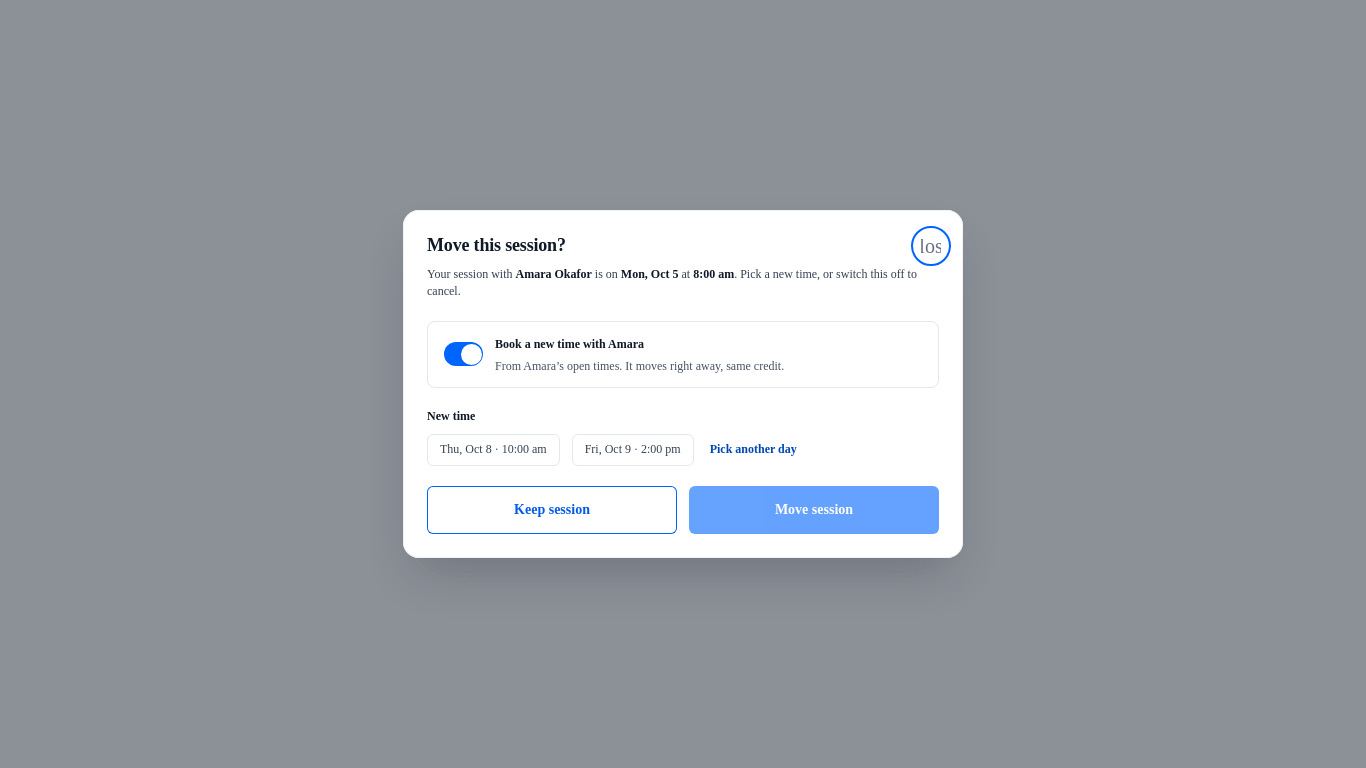
Scenario: switched off › switching back on starts again with no time picked
Step 1. Click the radio button labelled "Thu, Oct 8 · 10:00 am" → [493, 450], box [427, 434, 560, 466]
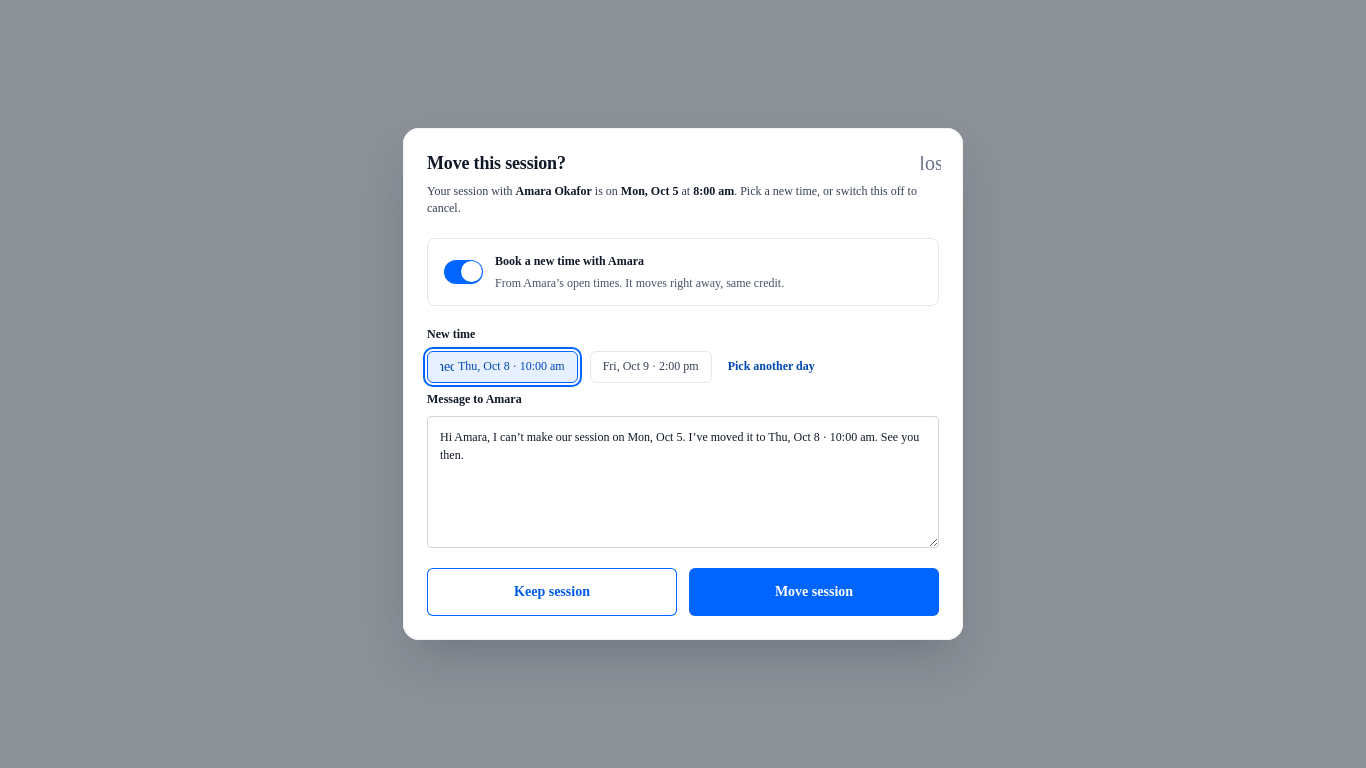
Step 2. Click the switch named "Book a new time with Amara" → [464, 272], box [444, 260, 483, 284]
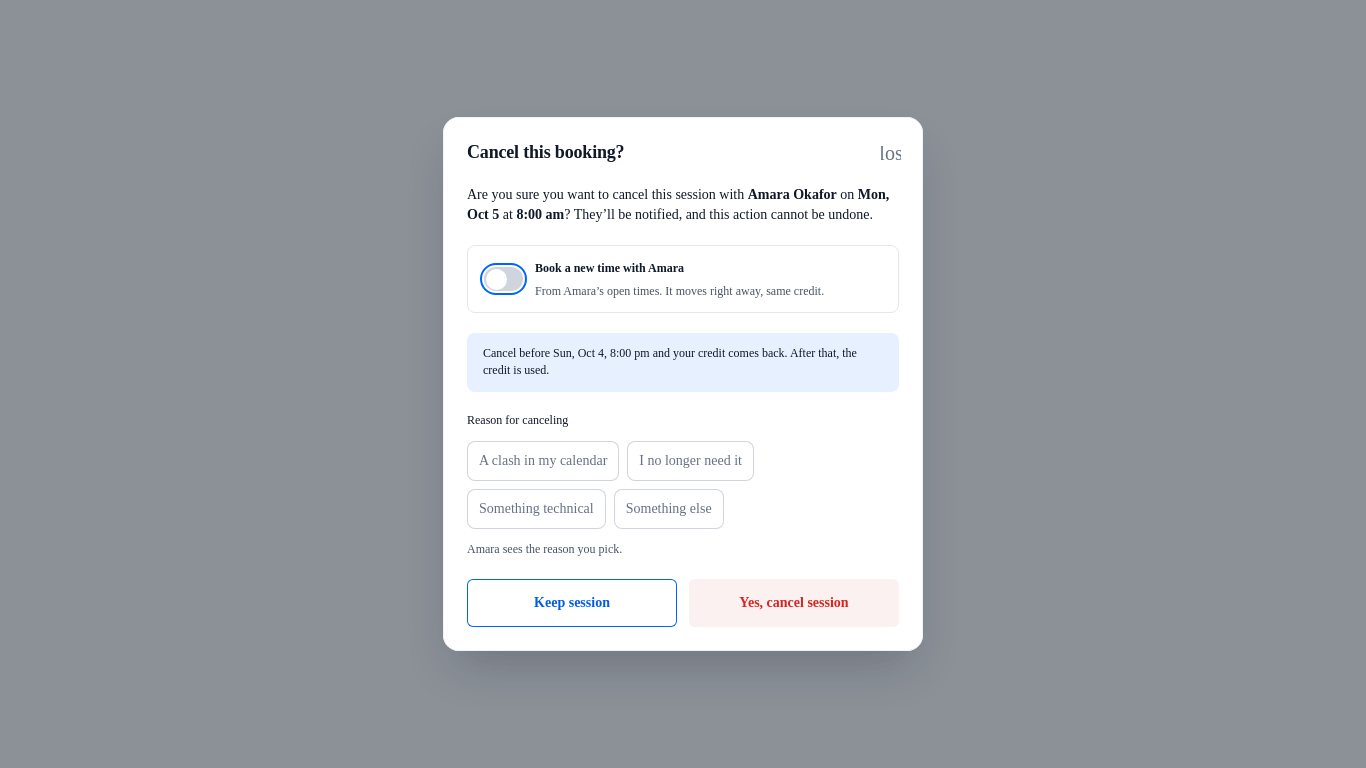
Step 3. Click the switch named "Book a new time with Amara" → [504, 279], box [484, 267, 523, 291]
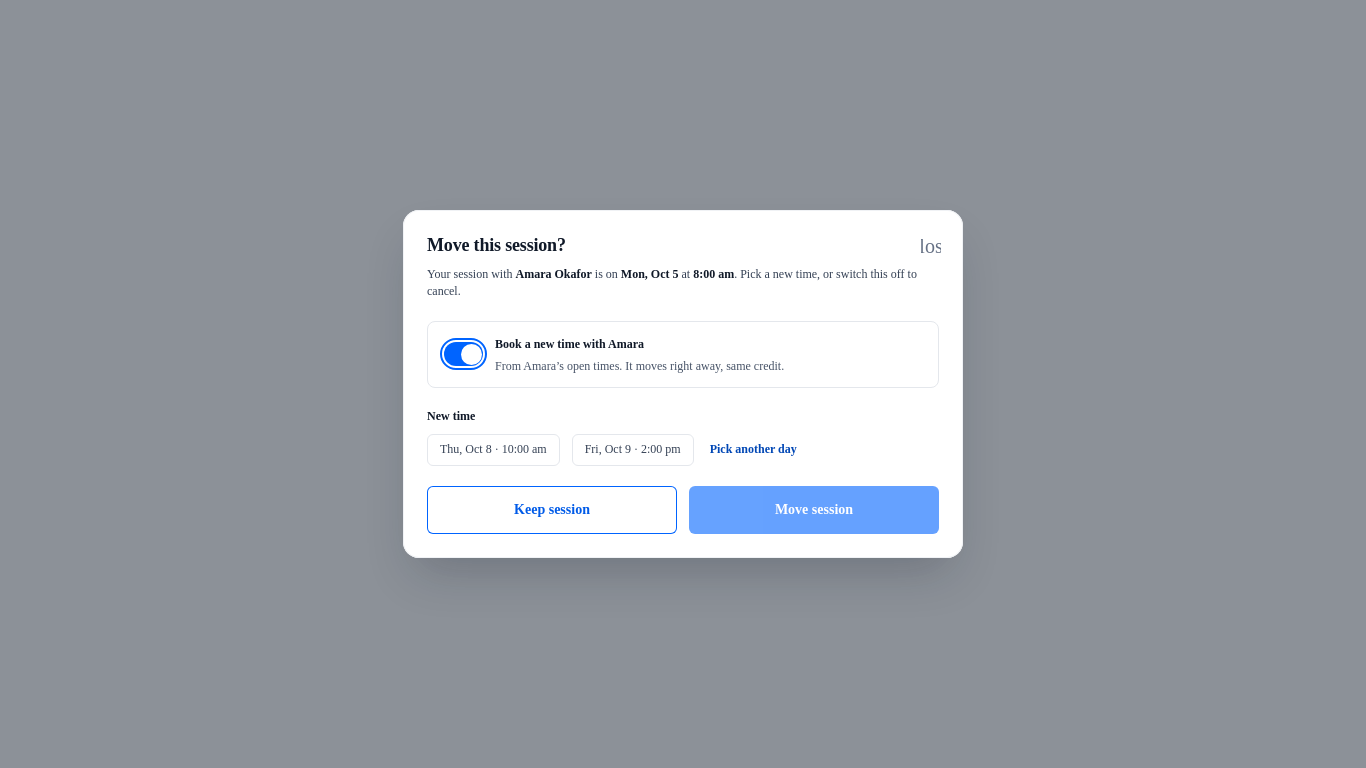
Now the heading "Move this session?" is shown, box [427, 235, 566, 255]
